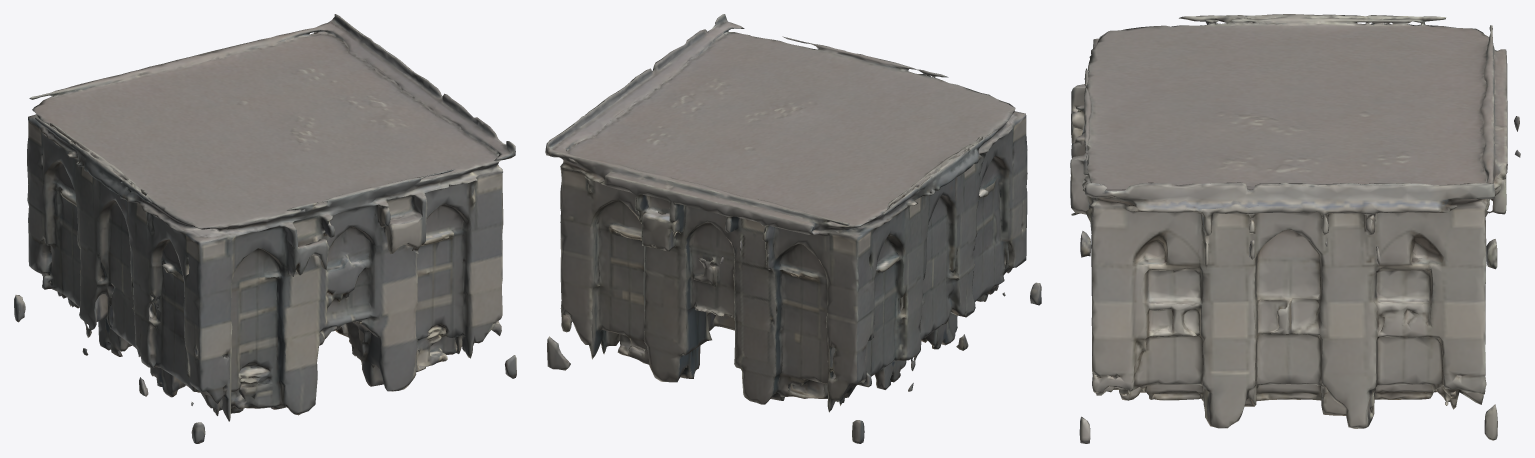
Rendered from 롯데_성기반.glb.
3 views of the same model, side by side, from view 1: azimuth 30°, elevation 25°; view 2: azimuth 150°, elevation 25°; view 3: azimuth 270°, elevation 25° (orthographic). The views are drawn at different scales.
Parts seen in each view (by area): view 1: texture_mapping; view 2: texture_mapping; view 3: texture_mapping.
Boxes of the visible parts, x1,y1,x2,y2 form: texture_mapping: (14,14,516,443); texture_mapping: (545,14,1041,443); texture_mapping: (1070,14,1520,443).
Bounding box in the file's own units: 0.9628 × 0.6235 × 0.971.
1 material, 1 textured.
